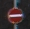No entry: (5, 6, 25, 24)
